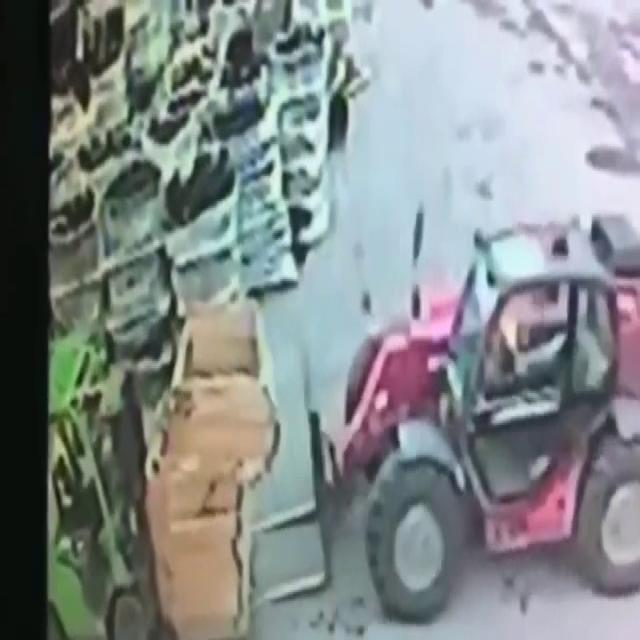forklift: (329, 199, 640, 626)
